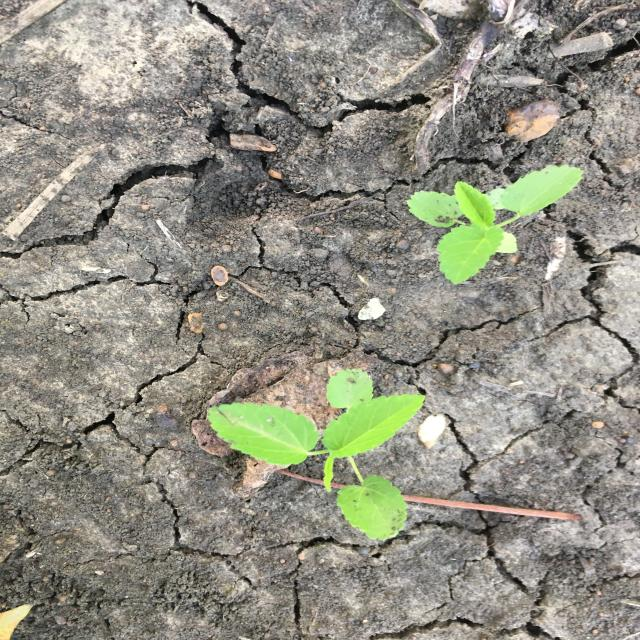PricklySida: (205, 366, 428, 544), (405, 163, 586, 286)
